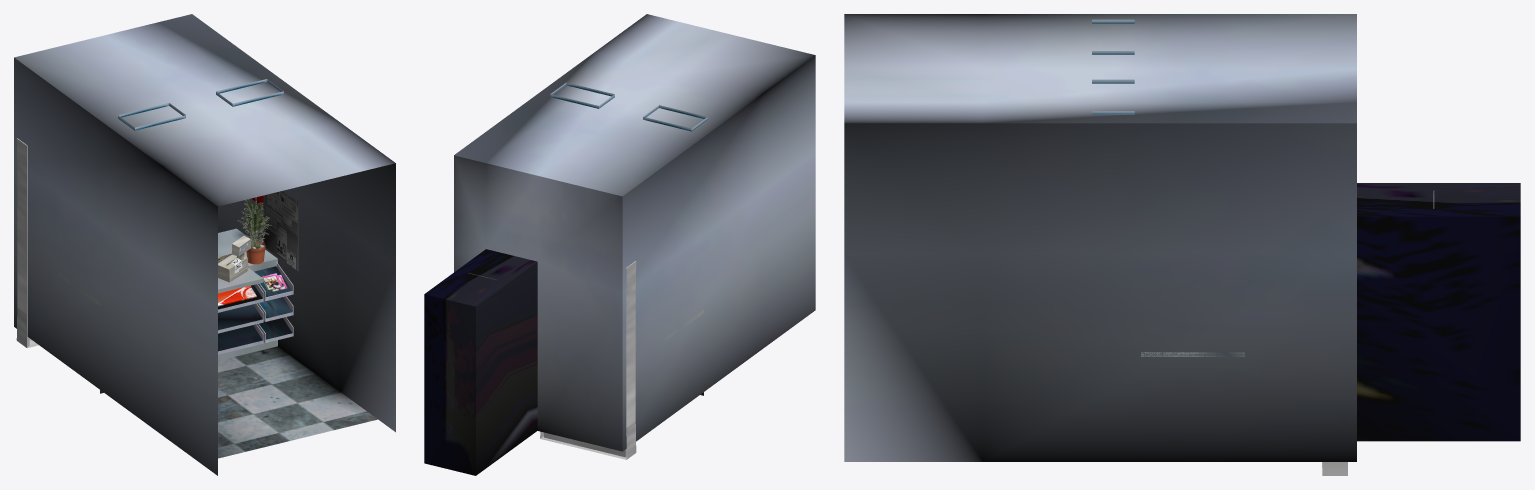
File: shopver1.gltf
3 views of the same model, side by side, from view 1: azimuth 30°, elevation 25°; view 2: azimuth 150°, elevation 25°; view 3: azimuth 270°, elevation 25° (orthographic). The views are drawn at different scales.
Parts seen in each view (by area): view 1: room, gomboc.001; view 2: room; view 3: room.
Boxes of the visible parts, box(x1,y1,x2,y2) form: room: box(14, 14, 395, 475); gomboc.001: box(218, 286, 256, 306); room: box(424, 14, 815, 475); room: box(844, 14, 1520, 475).
Bounding box in the file's own units: 5.56 × 8.43 × 14.48.
8 materials, 7 textured.
